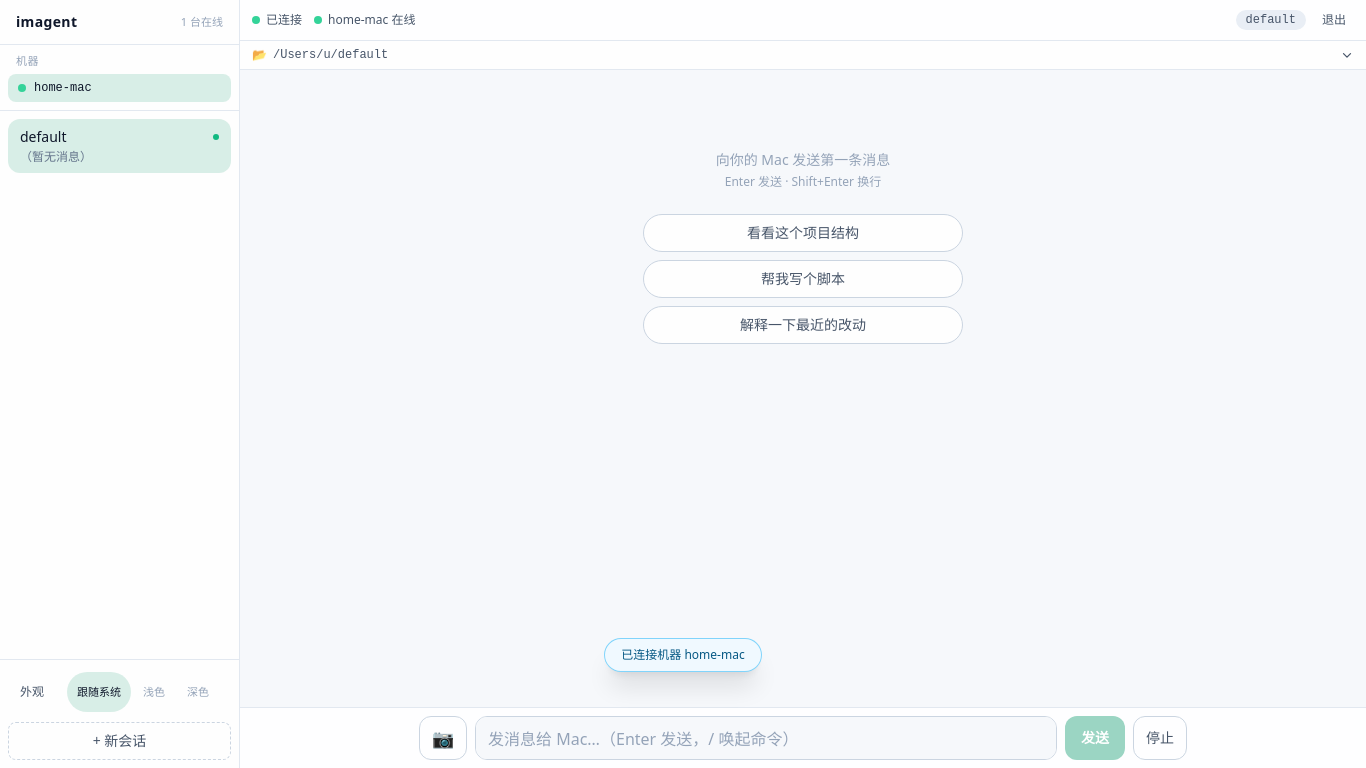
Test case: App 工作空间（v1.6） › 目录条点击弹切换器：chips 分区渲染；点选发 conv_workdir_set（convId 完整形态 + machine）并记 lastdir
The width and height of the screenshot is (1366, 768).
Click the button with aria-label "切换会话目录".
click(331, 55)  # box [240,41,1365,70]
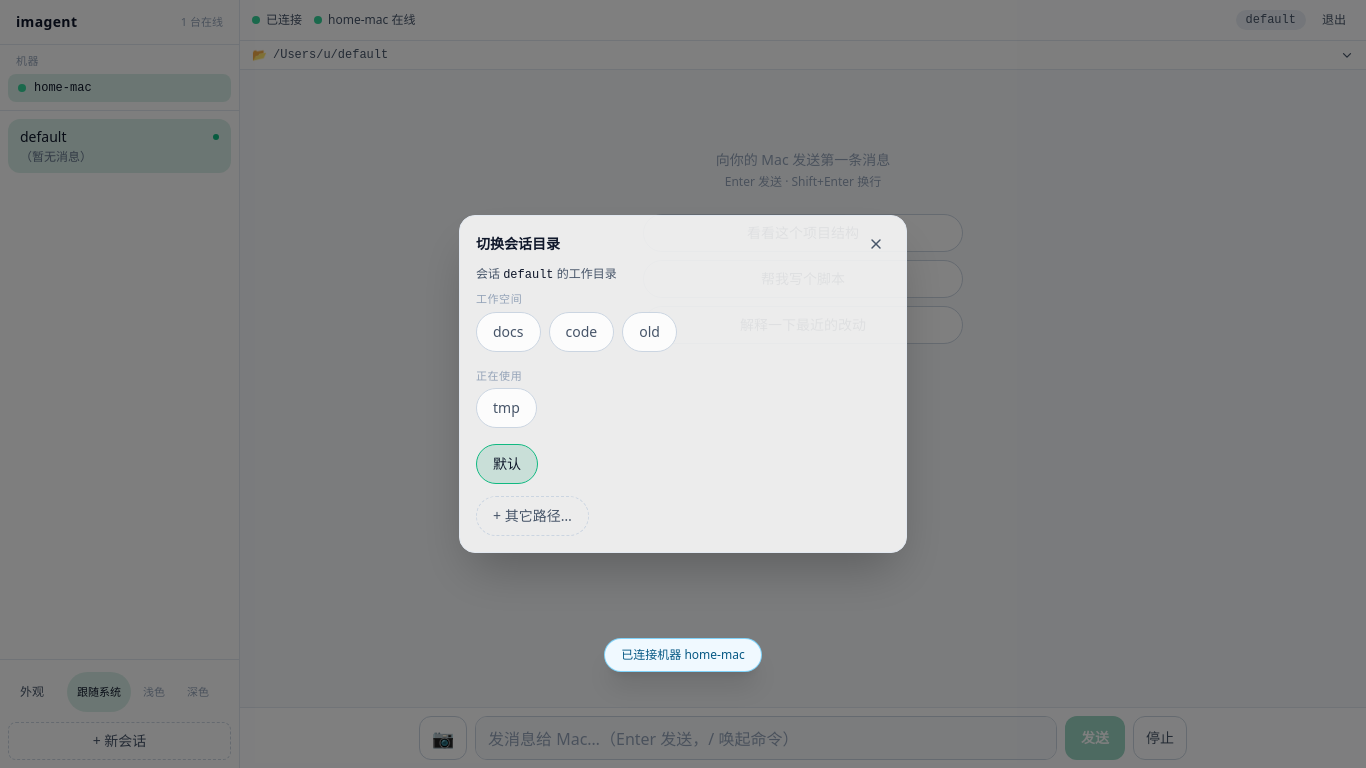
Expected: the buttons read "docs", "code", "old", in this order
Expected: the button "tmp" is shown, [476,388,537,428]
Expected: the button "默认" is shown, [476,444,538,484]
// 点选空间 → setConvWorkdir 帧内容断言 + lastdir 写入 + 弹层关闭
Click the button "docs".
click(508, 332)  # box [476,312,540,352]
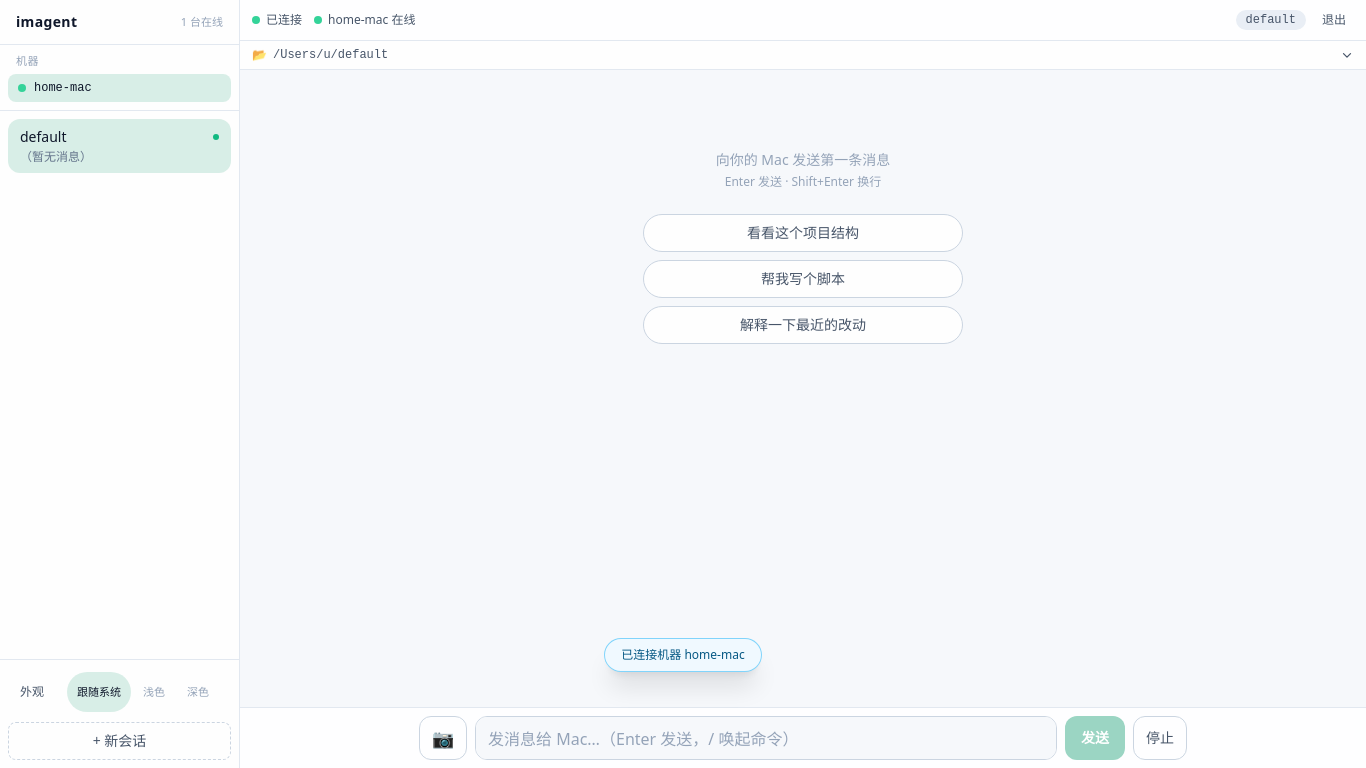
Expected: the heading "切换会话目录" is gone
